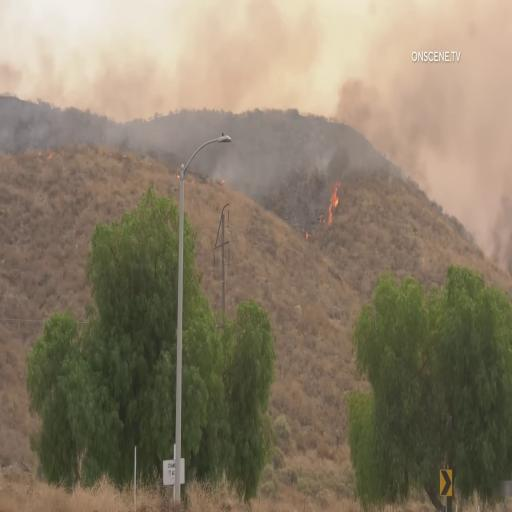fire: (323, 177, 342, 230)
smoke: (331, 106, 426, 172)
